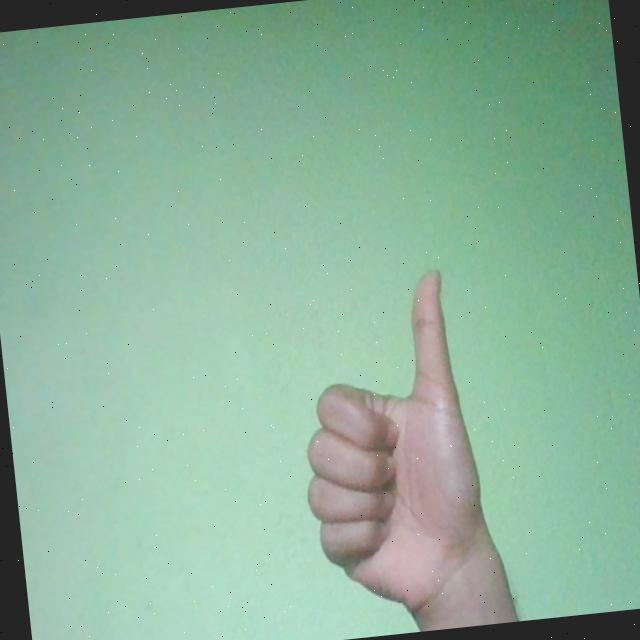Good Job: (284, 265, 496, 631)
